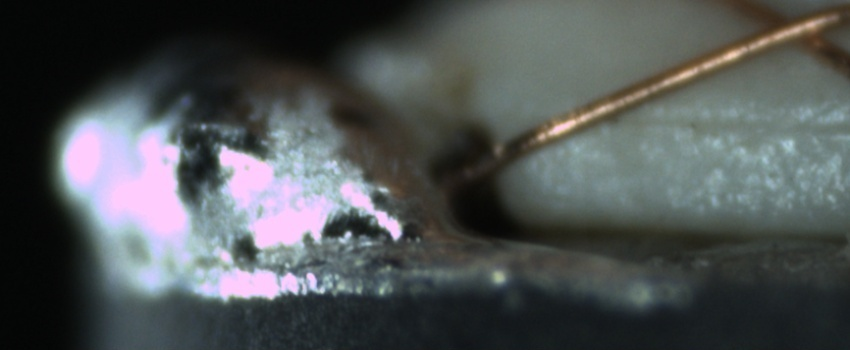CL: (740, 0, 842, 62)
DL: (616, 87, 846, 157)
